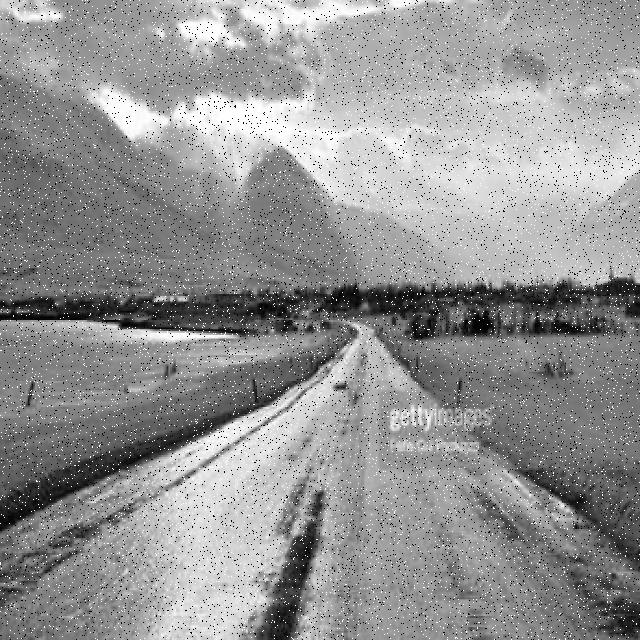ice-road: (0, 325, 640, 640)
